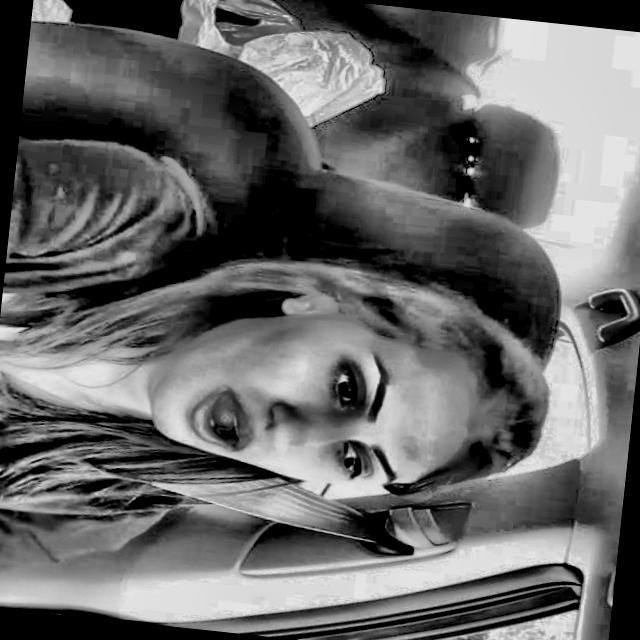open_eyes: (317, 347, 376, 420), (318, 428, 375, 491)
open_mouth: (169, 368, 261, 465)
